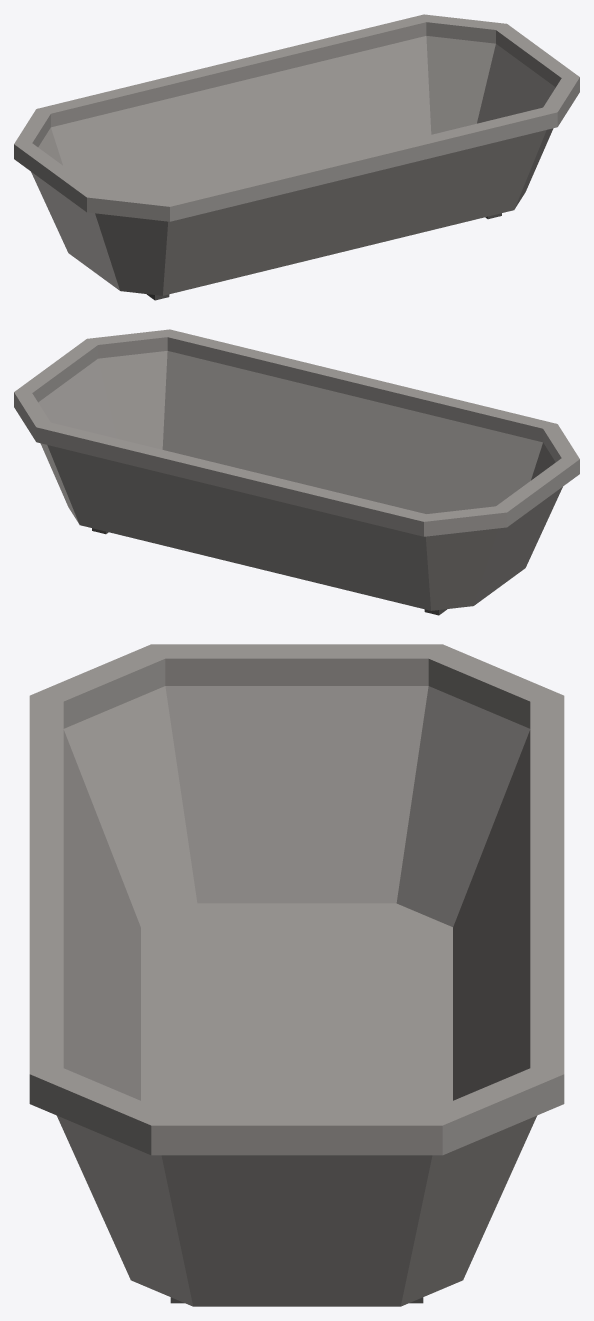
The model's file is SM_Props_Interior_House_Bathroom_Bathtub.fbx.
The picture shows the model from 3 angles, top to bottom: view 1: azimuth 30°, elevation 25°; view 2: azimuth 150°, elevation 25°; view 3: azimuth 270°, elevation 25°; orthographic projection. The views are drawn at different scales.
Parts seen in each view (by area): view 1: SM_Props_Interior_House_Bathroom_Bathtub; view 2: SM_Props_Interior_House_Bathroom_Bathtub; view 3: SM_Props_Interior_House_Bathroom_Bathtub.
Boxes of the visible parts, box(x1,y1,x2,y2) form: SM_Props_Interior_House_Bathroom_Bathtub: box(14, 14, 579, 300); SM_Props_Interior_House_Bathroom_Bathtub: box(14, 329, 579, 615); SM_Props_Interior_House_Bathroom_Bathtub: box(29, 644, 564, 1306).
Size of the model in its own units: 207 by 50 by 97.39.
